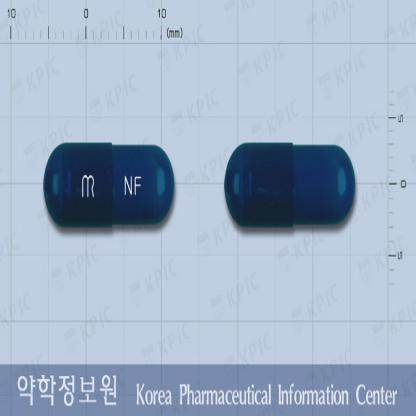pill: (222, 140, 356, 230), (42, 140, 176, 228)
